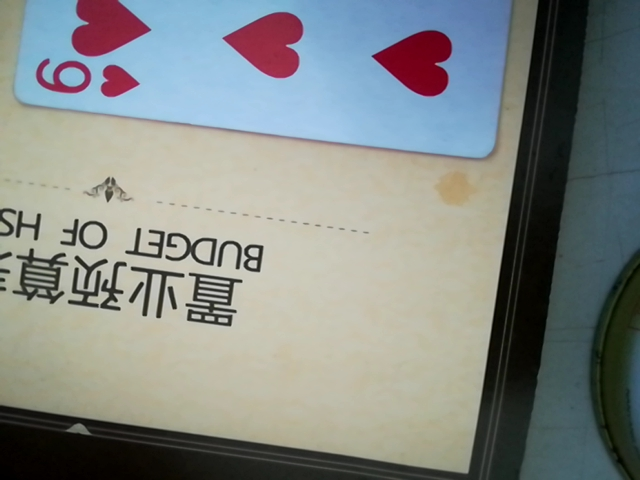hx 6: (5, 0, 531, 152)
